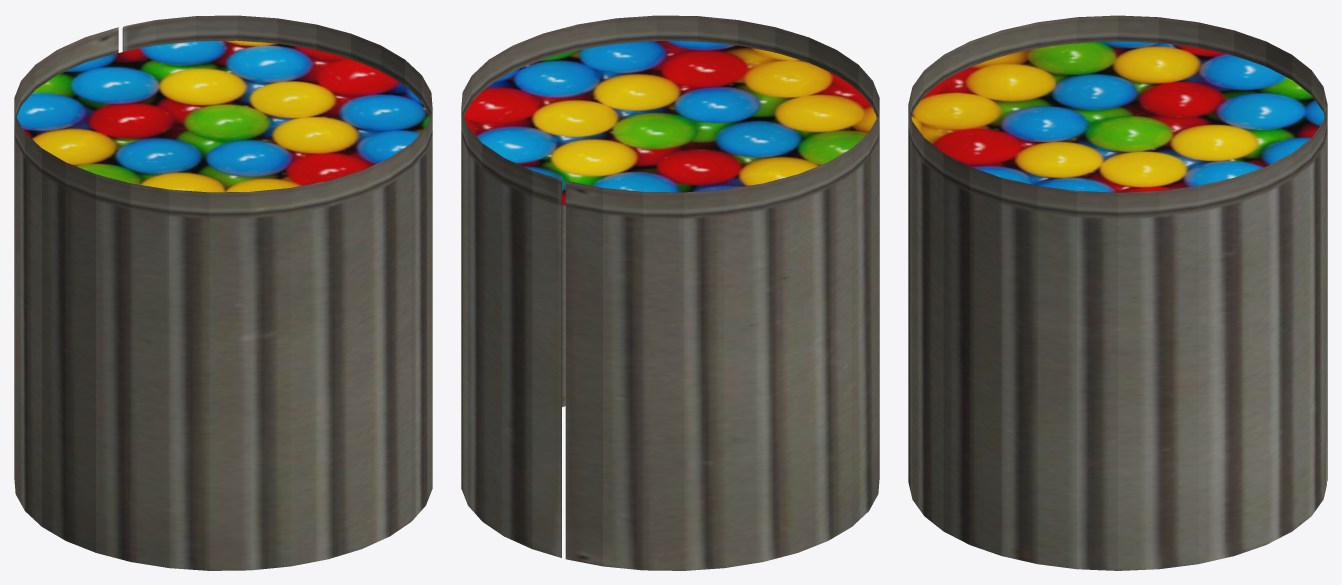
File: trash can1.fbx
3 renders of one model, left to right at view 1: azimuth 30°, elevation 25°; view 2: azimuth 150°, elevation 25°; view 3: azimuth 270°, elevation 25°, orthographic.
Visible parts, largest first — view 1: Cylinder; view 2: Cylinder; view 3: Cylinder.
Part boxes in pixels (box(x1,y1,x2,y2)): Cylinder: box(14, 15, 432, 570); Cylinder: box(461, 15, 879, 570); Cylinder: box(908, 15, 1327, 570).
Size of the model in its own units: 200 by 200 by 200.
